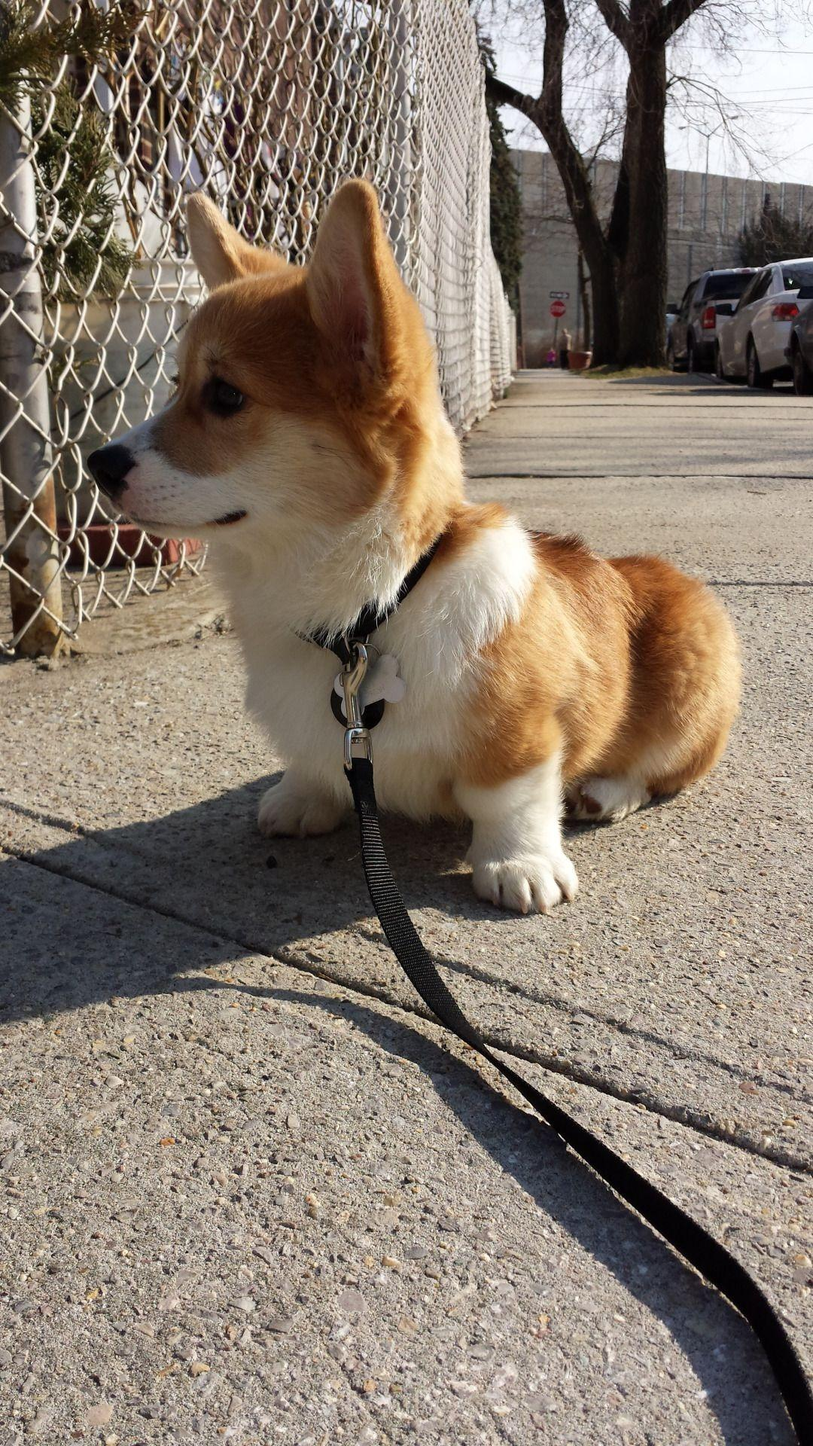puppy-dog: (87, 175, 743, 912)
